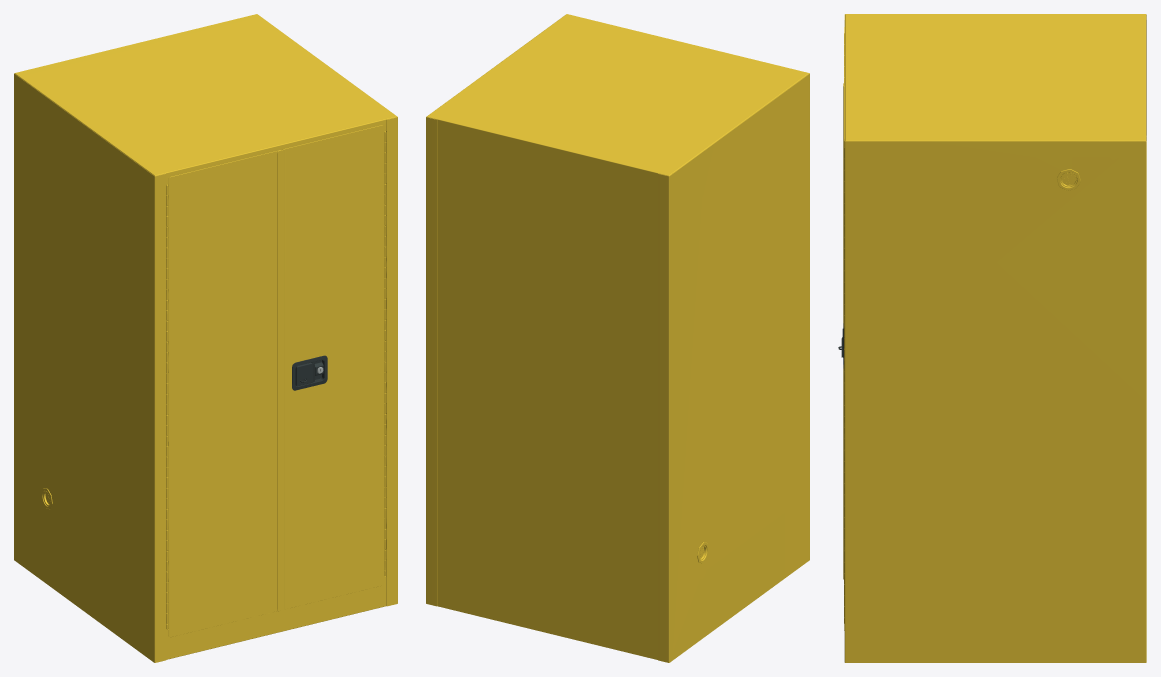
File: cabinet_drum_flammable_a02.glb
3 views of the same model, side by side, from view 1: azimuth 30°, elevation 25°; view 2: azimuth 150°, elevation 25°; view 3: azimuth 270°, elevation 25° (orthographic). The views are drawn at different scales.
Size of the model in its own units: 0.869 by 1.65 by 0.8834.
